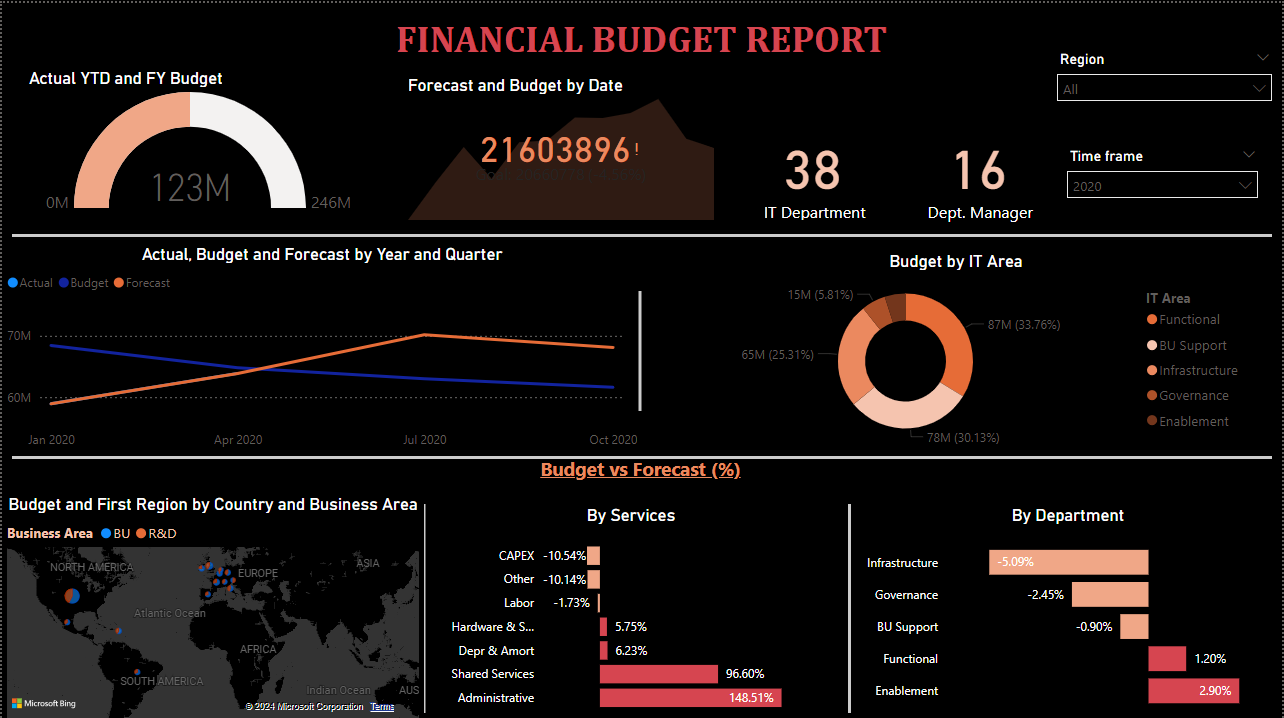

The dashboard page shown, as its layout file describes it:
{"tool":"powerbi","page":{"name":"Headline","canvas":[1280,720],"ordinal":0},"visuals":[{"type":"basicShape","box":[0,195.5,1280,73.6],"z":0},{"type":"gauge","title":"Actual YTD and FY Budget","fields":{"Y":["Sum(Actuals.Actual)"],"TargetValue":["Sum(Budget.Budget)"]},"box":[22.2,64.5,348.7,150.2],"z":1000},{"type":"kpi","fields":{"TrendLine":["Calendar.Date"],"Goal":["Sum(Budget.Budget)"],"Indicator":["Sum(Forecast.Forecast)"]},"box":[401.1,71.6,315.5,150.2],"z":2000},{"type":"lineChart","fields":{"Category":["Calendar.Date.Variation.Date Hierarchy.Year","Calendar.Date.Variation.Date Hierarchy.Quarter","Calendar.Date.Variation.Date Hierarchy.Month"],"Y":["Sum(Actuals.Actual)","Sum(Budget.Budget)","Sum(Forecast.Forecast)"]},"box":[0,240.9,640,213.7],"z":3000},{"type":"clusteredBarChart","title":"By Services","fields":{"Category":["CostElements.Cost Element Group"],"Y":["Budget.Budget vs Forecast %"]},"box":[427.6,501.8,402.8,217.2],"z":4000},{"type":"clusteredBarChart","title":"By Department","fields":{"Category":["Departments.IT Area"],"Y":["Budget.Budget vs Forecast %"]},"box":[852.4,501.8,427.6,217.2],"z":5000},{"type":"textbox","box":[388,8.1,540.2,56.4],"z":6000},{"type":"slicer","fields":{"Values":["Calendar.Date.Variation.Date Hierarchy.Year","Calendar.Date.Variation.Date Hierarchy.Month"]},"box":[1055.2,140.1,210.6,81.6],"z":8000},{"type":"donutChart","fields":{"Category":["Departments.IT Area"],"Y":["Sum(Budget.Budget)"]},"box":[658.1,247.9,591.6,200.6],"z":9000},{"type":"basicShape","box":[336.8,490.8,170.5,229.6],"z":10000},{"type":"basicShape","box":[776.8,490.8,141.6,229.6],"z":11000},{"type":"basicShape","box":[488.1,277.7,299.7,140.2],"z":12000},{"type":"textbox","box":[12.4,448.2,1252.5,42.6],"z":13000},{"type":"basicShape","box":[0,418.3,1280,72.6],"z":14000},{"type":"card","fields":{"Values":["Count(Departments.IT Department)"]},"box":[716.6,117.9,187.5,103.8],"z":15000},{"type":"map","fields":{"Category":["Regions.Country"],"Size":["Sum(Budget.Budget)"],"Series":["CostElements.Business Area"]},"box":[0,491,422,229],"z":16000},{"type":"card","fields":{"Values":["Count(Departments.Dept. Manager)"]},"box":[897,113,158,114],"z":17000},{"type":"slicer","fields":{"Values":["Regions.Region"]},"box":[1045.2,43.3,234.8,83.7],"z":17500}]}

Visuals, with their boxes in screenshot pixels (x1, y1, x2, y2), scaled from the page's 1280x720 canvas onto the 1284x718 screenshot:
basicShape: <box>0,195,1283,268</box>
"Actual YTD and FY Budget" gauge: <box>22,64,372,214</box>
kpi - Calendar.Date x Sum(Budget.Budget): <box>402,71,719,221</box>
lineChart - Calendar.Date.Variation.Date Hierarchy.Year x Calendar.Date.Variation.Date Hierarchy.Quarter: <box>0,240,642,453</box>
"By Services" clusteredBarChart: <box>429,500,833,717</box>
"By Department" clusteredBarChart: <box>855,500,1283,717</box>
textbox: <box>389,8,931,64</box>
slicer - Calendar.Date.Variation.Date Hierarchy.Year x Calendar.Date.Variation.Date Hierarchy.Month: <box>1058,140,1270,221</box>
donutChart - Departments.IT Area x Sum(Budget.Budget): <box>660,247,1254,447</box>
basicShape: <box>338,489,509,717</box>
basicShape: <box>779,489,921,717</box>
basicShape: <box>490,277,790,417</box>
textbox: <box>12,447,1269,489</box>
basicShape: <box>0,417,1283,490</box>
card - Count(Departments.IT Department): <box>719,118,907,221</box>
map - Regions.Country x Sum(Budget.Budget): <box>0,490,423,717</box>
card - Count(Departments.Dept. Manager): <box>900,113,1058,226</box>
slicer - Regions.Region: <box>1048,43,1283,127</box>
